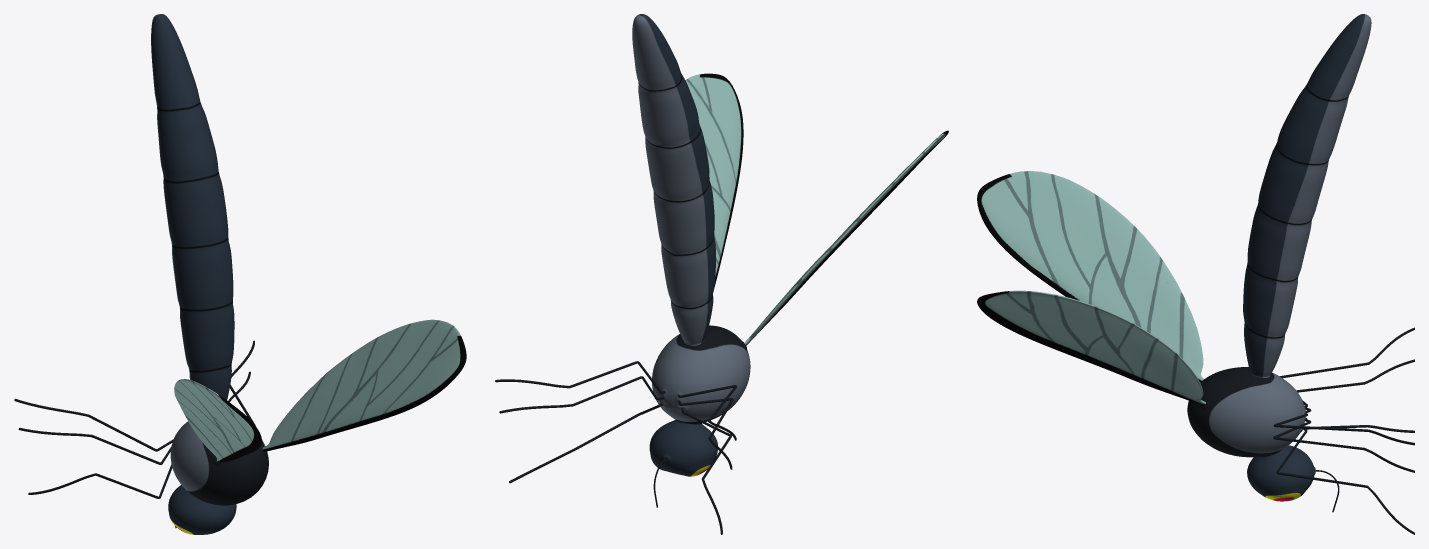
File: mosquito.fbx
The picture shows the model from 3 angles, left to right: view 1: azimuth 30°, elevation 25°; view 2: azimuth 150°, elevation 25°; view 3: azimuth 270°, elevation 25°; orthographic projection.
Parts seen in each view (by area): view 1: node_id30; view 2: node_id30; view 3: node_id30.
Boxes of the visible parts, x1,y1,x2,y2 form: node_id30: [14, 14, 466, 534]; node_id30: [495, 14, 948, 534]; node_id30: [977, 14, 1414, 534].
Bounding box in the file's own units: 0.3347 × 0.6416 × 0.512.
Materials: 1 (1 with a texture image).
